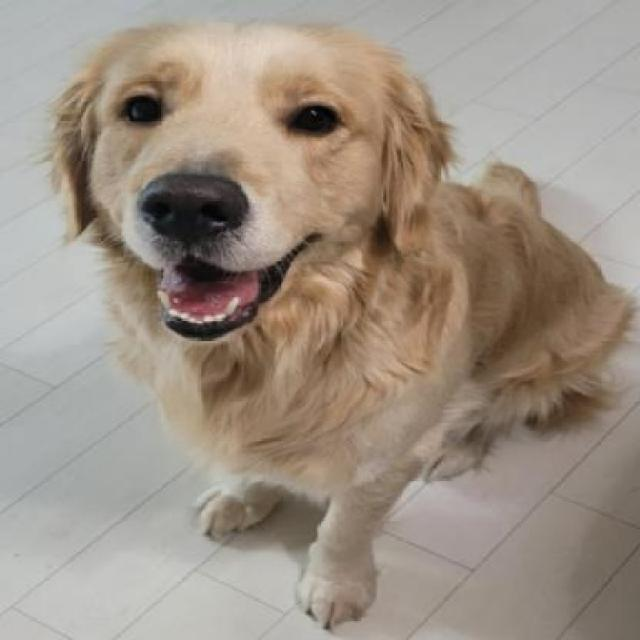Dog: (44, 14, 638, 629)
